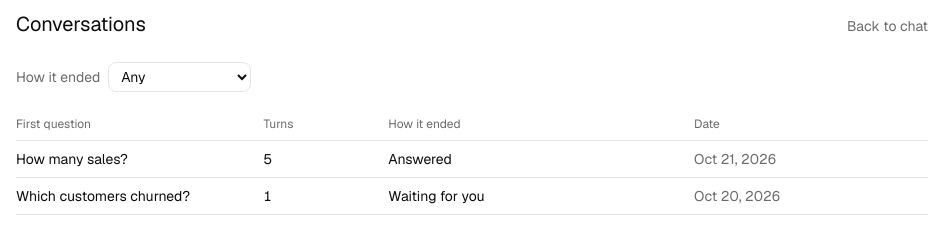
Scenario: ConversationTable › filters by how the conversation ended
This screenshot has width=945, height=232.
Expected: the link "How many sales?" is shown, [16,150,128,168]
Select "Waiting for you" in the dropdown labelled "How it ended" at (180, 77), box [108,62,251,92]
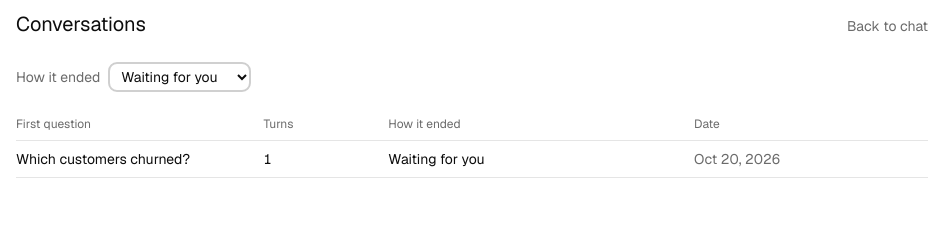
Expected: the text "Waiting for you" is shown, [388,140,694,178]
Result: the link "How many sales?" is gone
